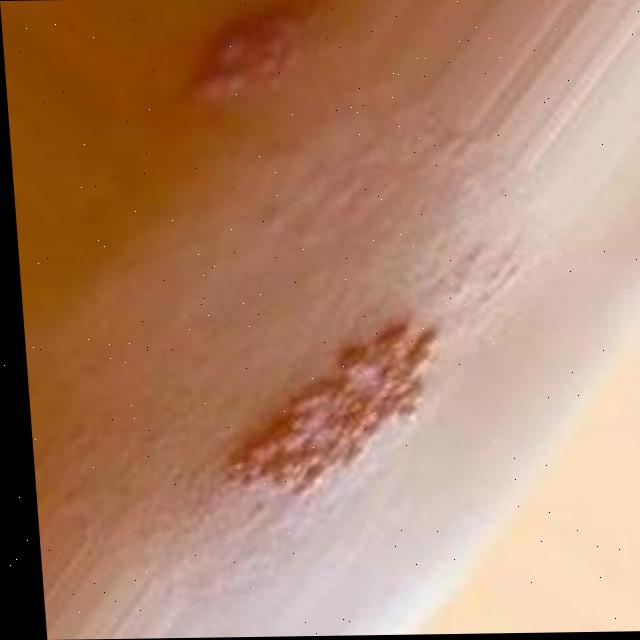Shingles: (211, 323, 443, 492), (178, 0, 321, 115)
